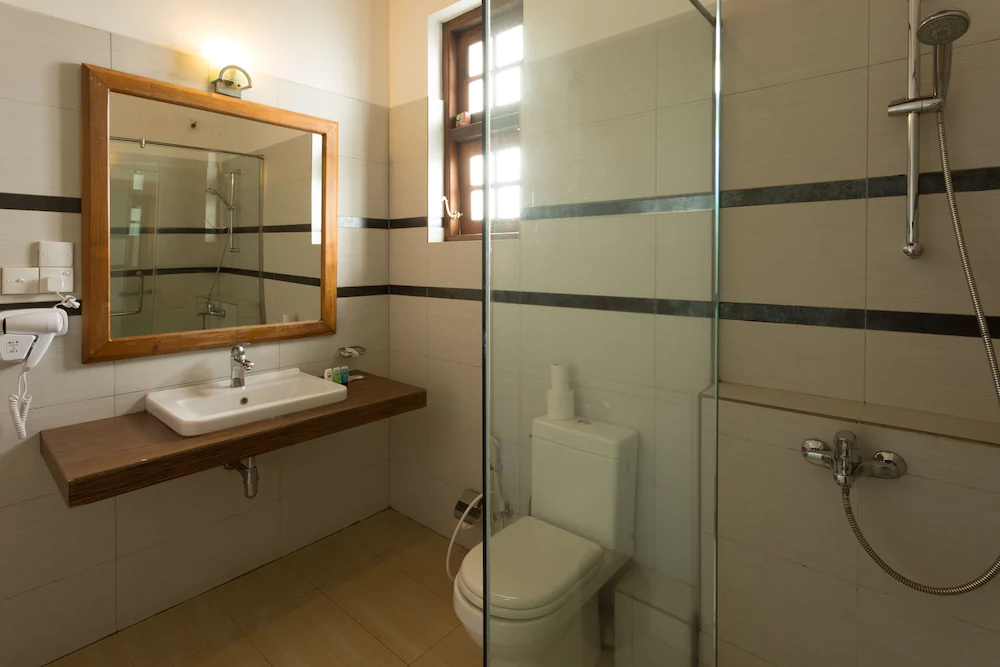countertop: (39, 370, 427, 508)
faucet: (229, 342, 254, 388)
sink: (146, 365, 347, 438)
toilet: (452, 409, 639, 667)
